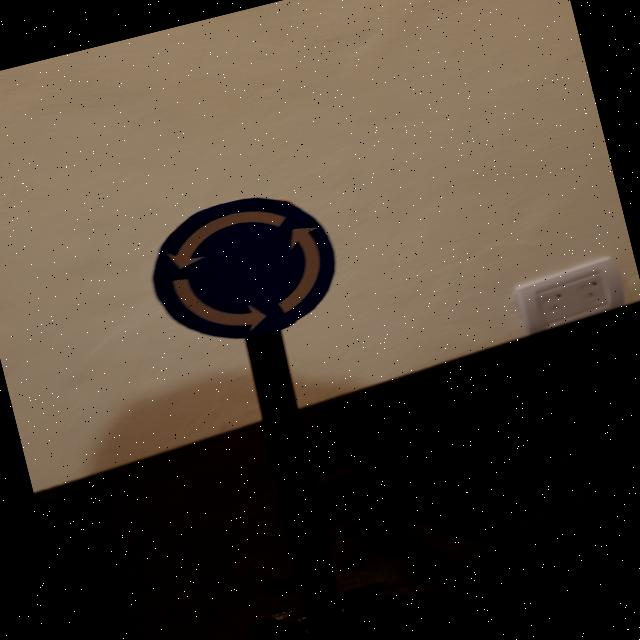round_about: (137, 178, 350, 359)
